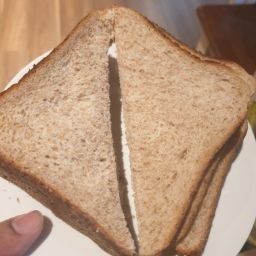Breads: (3, 5, 256, 256), (4, 151, 151, 256), (165, 104, 251, 256)
